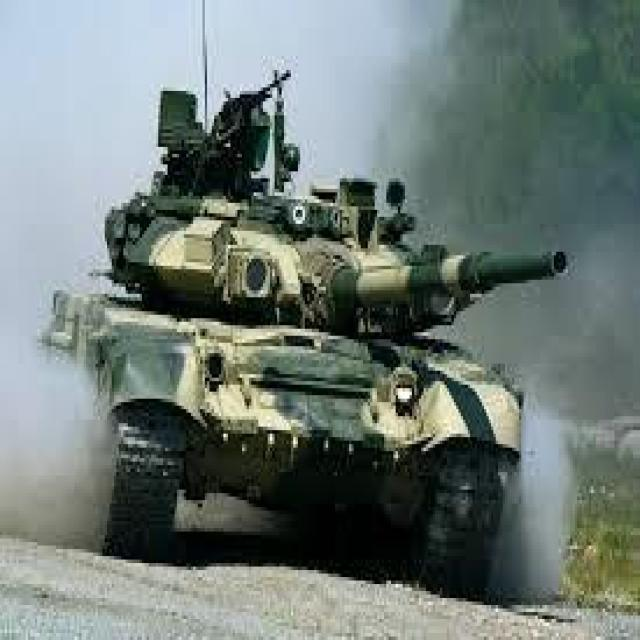MIL_MBT: (36, 61, 562, 621)
